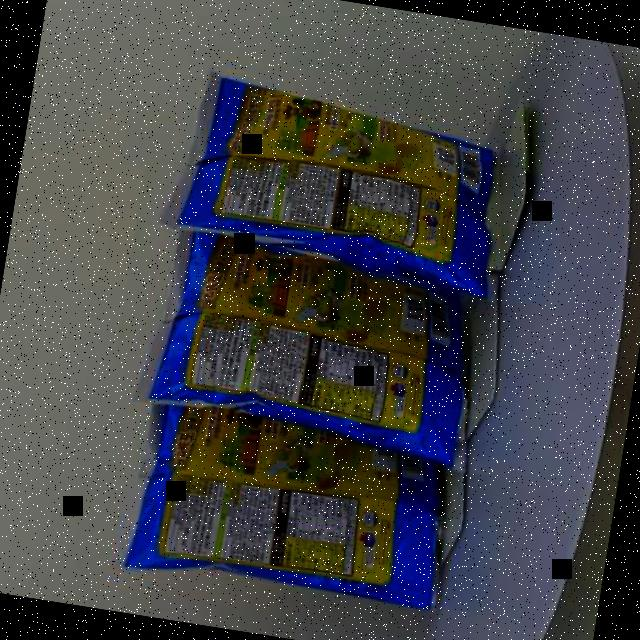snack_bag: (98, 51, 540, 639)
